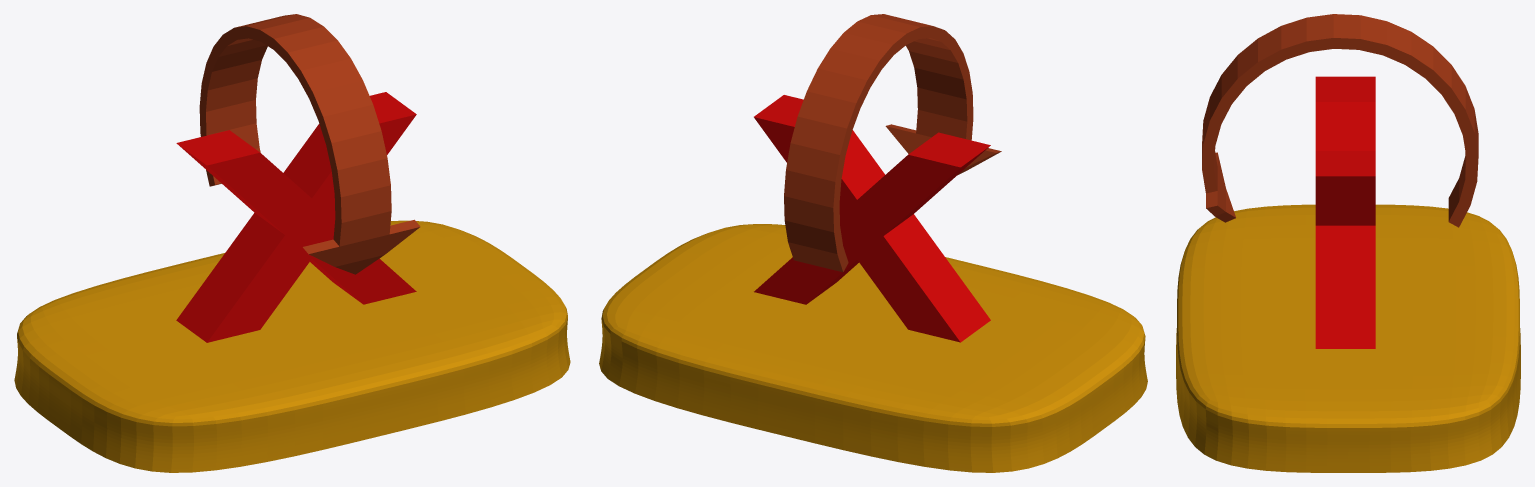
File: rotate_X_btn.obj
3 renders of one model, left to right at view 1: azimuth 30°, elevation 25°; view 2: azimuth 150°, elevation 25°; view 3: azimuth 270°, elevation 25°, orthographic. The views are drawn at different scales.
Parts seen in each view (by area): view 1: Cube; view 2: Cube; view 3: Cube.
Boxes of the visible parts, x1,y1,x2,y2 form: Cube: (14, 14, 570, 472); Cube: (599, 14, 1147, 472); Cube: (1176, 14, 1520, 472).
Bounding box in the file's own units: 17.54 × 12.34 × 11.5.
